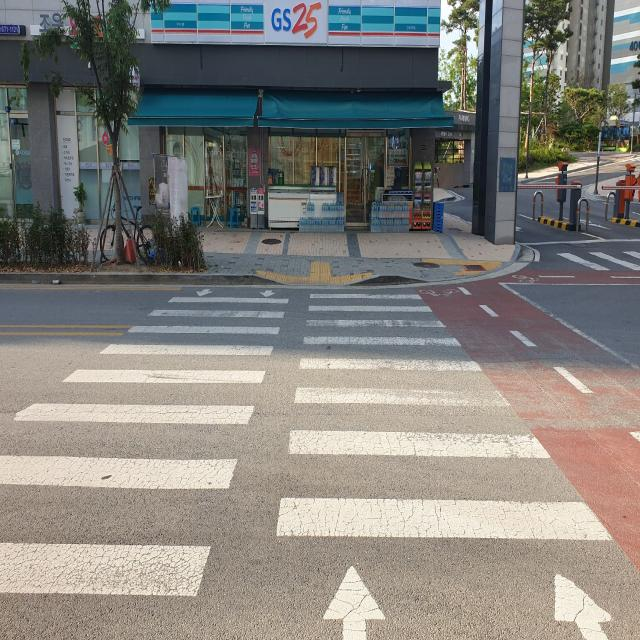횡단보도: (0, 285, 616, 640)
